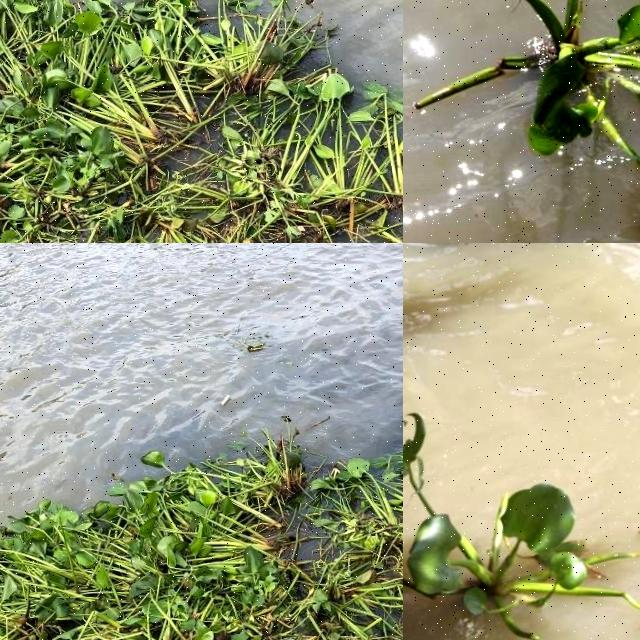water-hyacinth: (1, 1, 404, 244), (1, 415, 404, 640), (404, 405, 640, 640), (404, 1, 640, 235)
